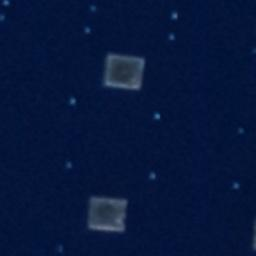square_cover: (96, 48, 150, 95), (84, 188, 132, 236)
